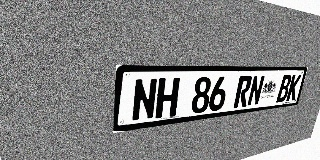6: (208, 76, 229, 112)
8: (190, 77, 213, 114)
B: (276, 75, 292, 103)
H: (155, 77, 180, 119)
K: (286, 74, 302, 101)
N: (131, 78, 158, 122), (247, 75, 265, 106)
R: (233, 76, 253, 108)
